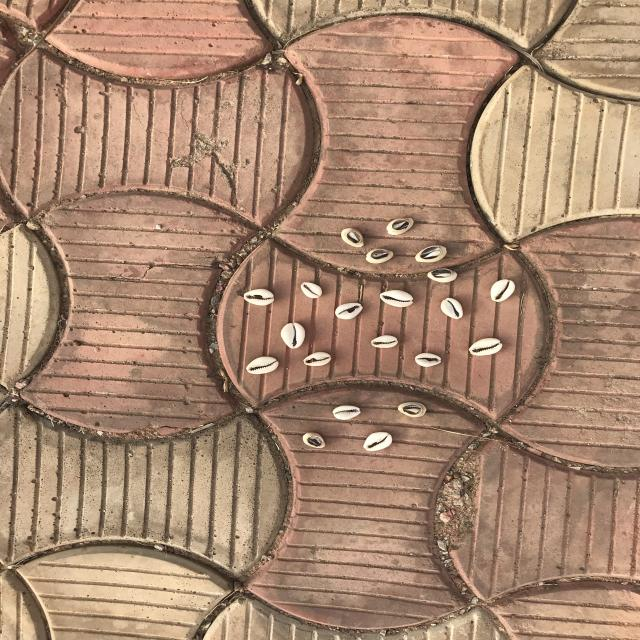facedown: (413, 242, 448, 265), (339, 226, 366, 249), (299, 430, 329, 450), (397, 400, 428, 419), (386, 215, 414, 236), (364, 246, 394, 265), (425, 267, 458, 284)
faceup: (277, 320, 310, 350), (376, 287, 417, 310), (467, 337, 507, 357), (363, 429, 394, 454), (488, 277, 517, 303), (246, 354, 280, 376), (437, 297, 468, 321), (243, 288, 276, 308), (332, 301, 364, 320), (413, 350, 442, 370), (329, 404, 363, 421), (368, 332, 400, 350), (299, 281, 325, 300), (302, 351, 332, 367)
